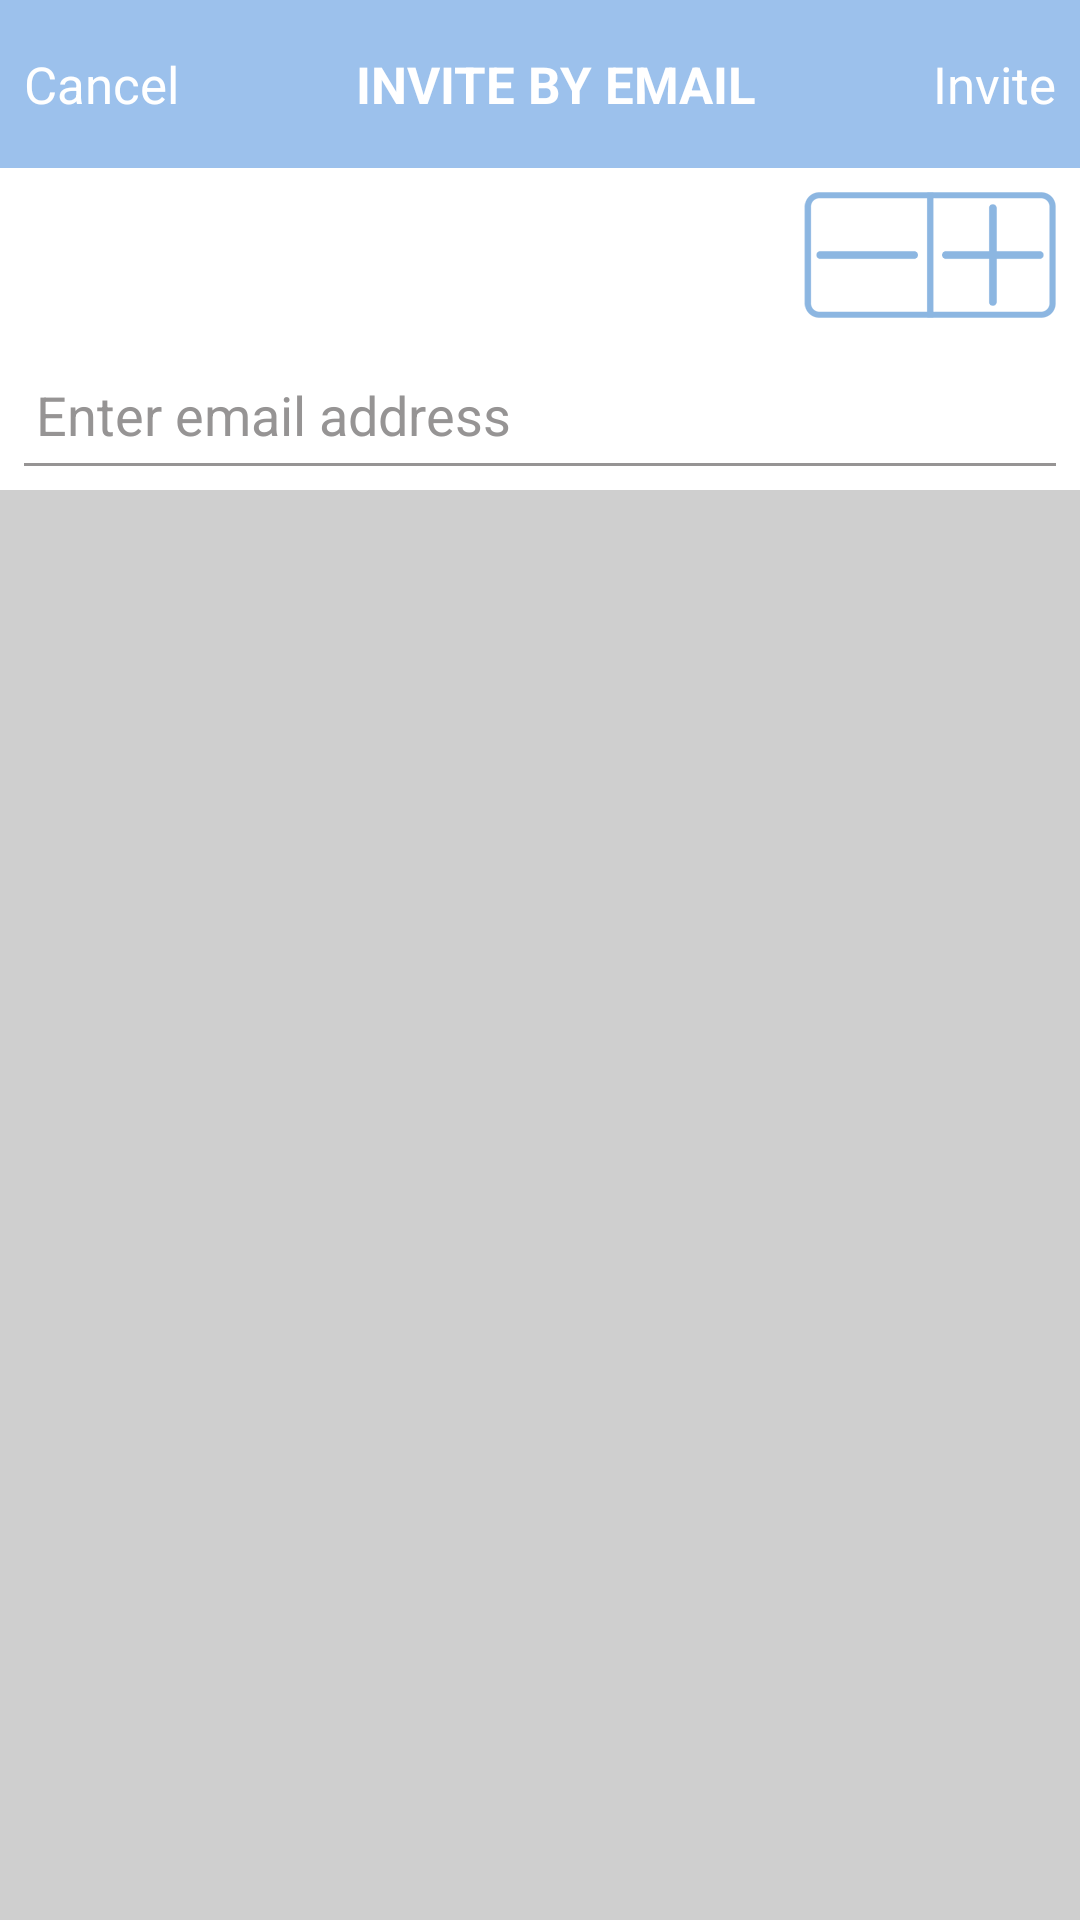

Named icons in this screenshot (1080px x 1920px) and their bounding boxes, (x1, y1, x2, y2):
minus: (804, 192, 930, 318)
plus: (930, 192, 1056, 318)
